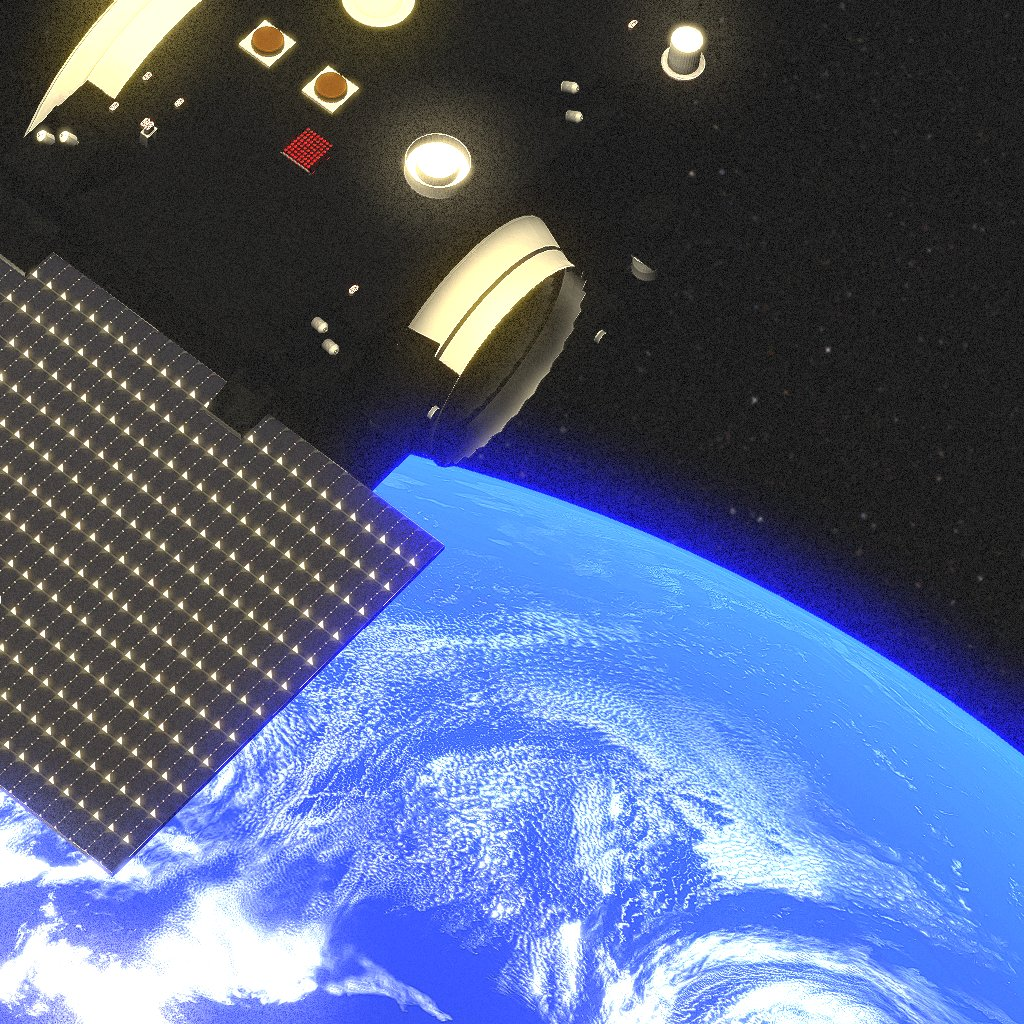proba_3_csc: (10, 12, 672, 666)
